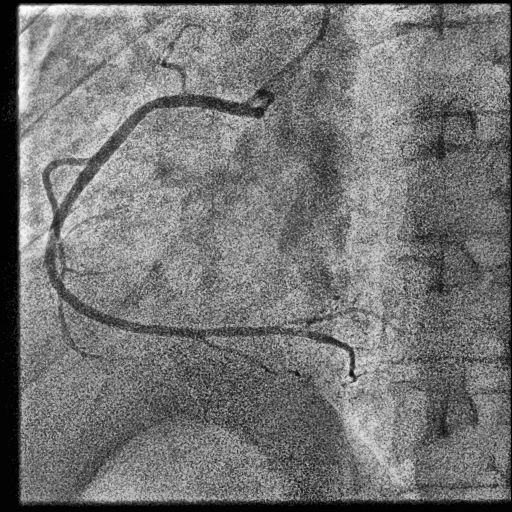pda: (275, 327, 355, 386)
rca: (45, 95, 281, 338)
